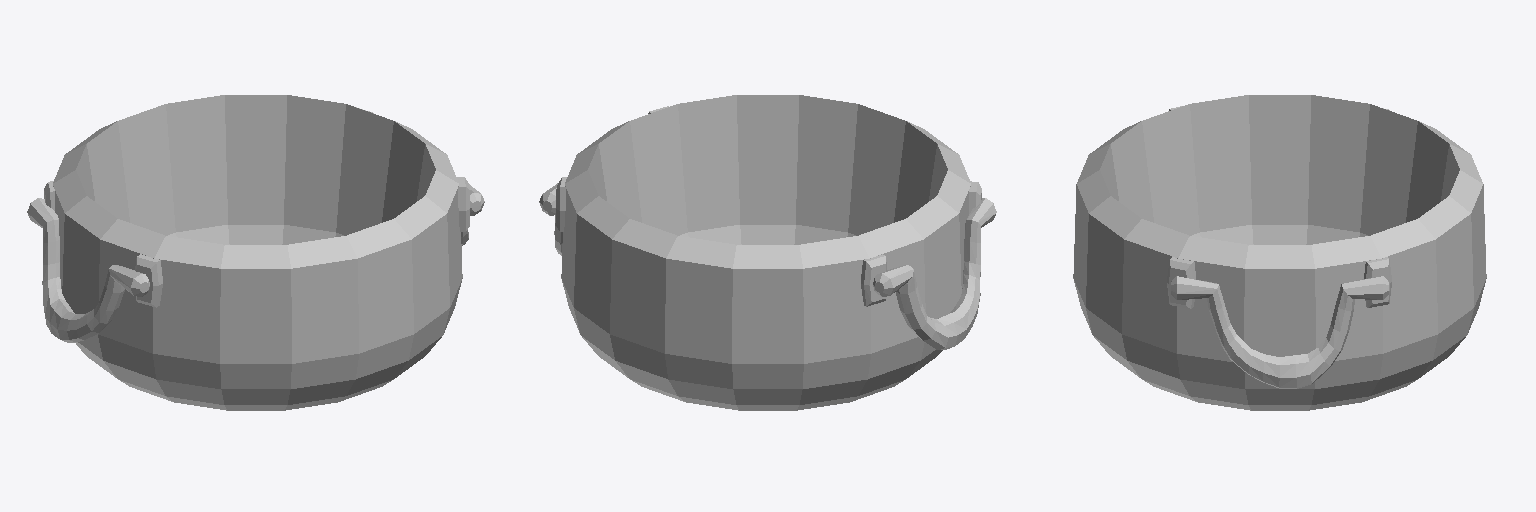
File: Pot_1.obj
3 views of the same model, side by side, from view 1: azimuth 30°, elevation 25°; view 2: azimuth 150°, elevation 25°; view 3: azimuth 270°, elevation 25° (orthographic).
Parts seen in each view (by area): view 1: Pot_1_Cube.049; view 2: Pot_1_Cube.049; view 3: Pot_1_Cube.049.
Part boxes in pixels (x1,y1,x2,y2): Pot_1_Cube.049: (27,95,484,410); Pot_1_Cube.049: (539,95,996,410); Pot_1_Cube.049: (1073,95,1486,410).
Size of the model in its own units: 0.5393 by 0.2238 by 0.486.